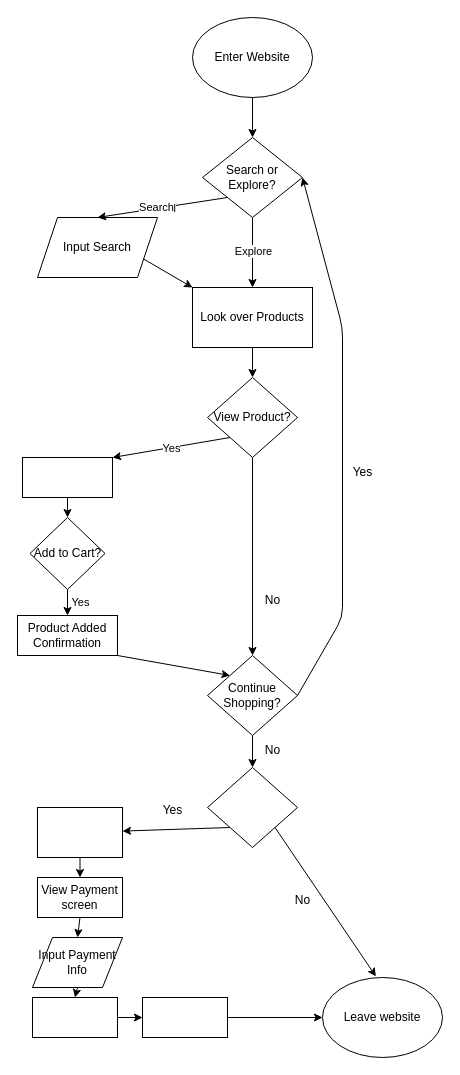
Image size: 460x1075. Some labels were removed from this diagram. The centre of each missing label's shape, as x and y in pixels:
"Checkout?" goes at (252,807).
"Display order confirmation" goes at (75,1017).
"Open product page" goes at (67,477).
"Send email confirmation" goes at (185,1017).
"View Cart screen" goes at (79,832).
